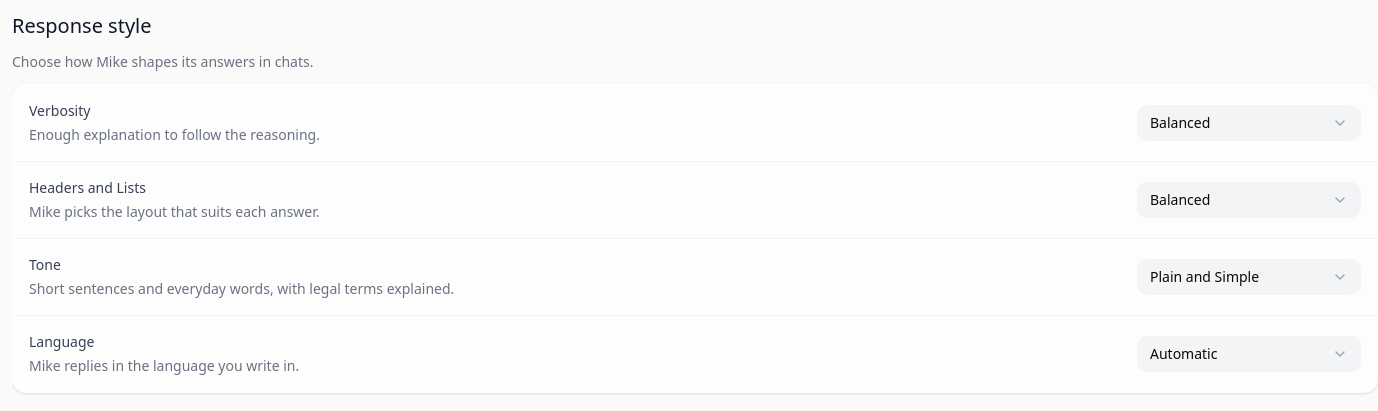
Scenario: ResponseStyleSection › saves only the setting that changed
Press the mouse on the button with aria-label "Headers and Lists" at (1249, 200), box [1137,182,1361,218]
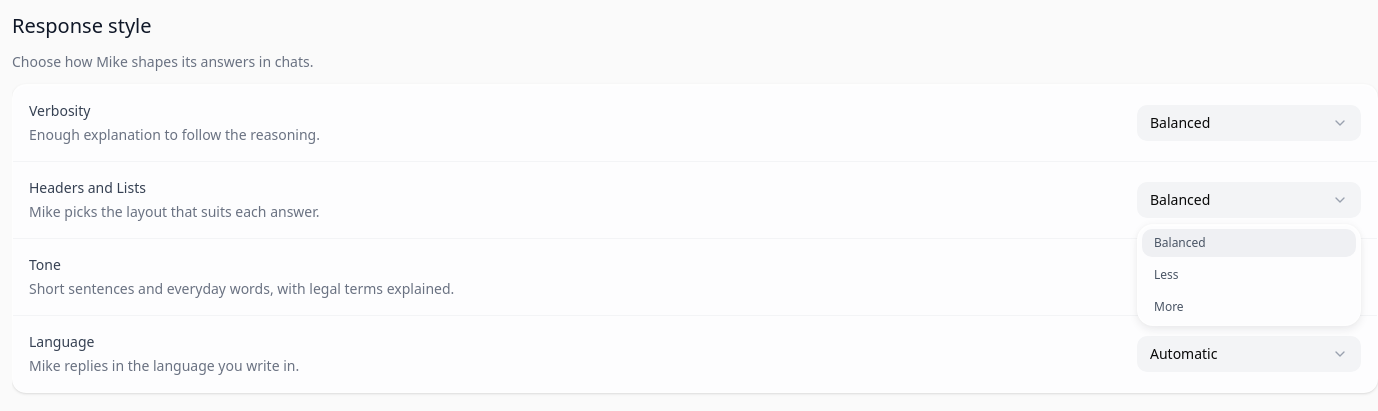
Click the menu item "More" at (1169, 306), box [1154,298,1184,315]
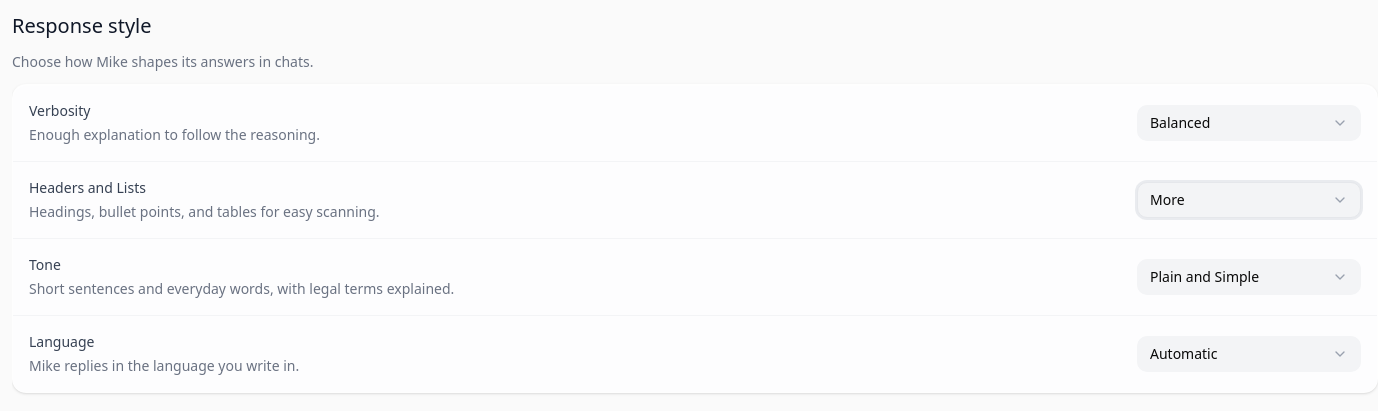
Expected: the button with aria-label "Verbosity" reads "Balanced", [1137,105,1361,141]
Expected: the button with aria-label "Headers and Lists" reads "More", [1137,182,1361,218]
